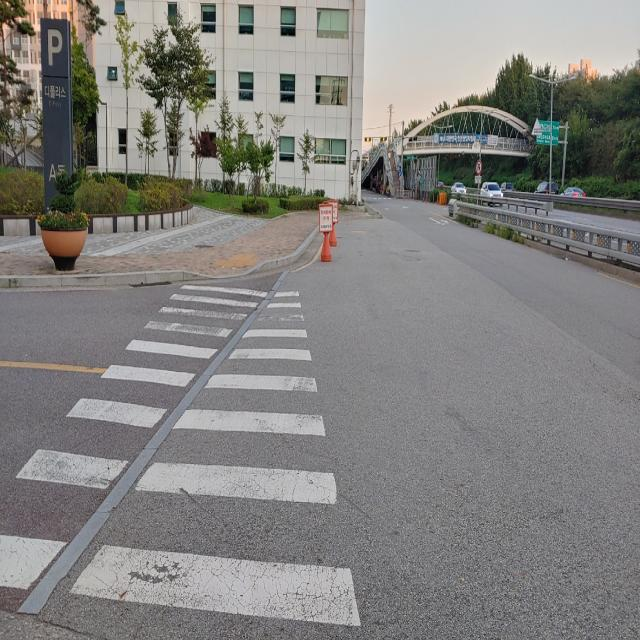횡단보도: (0, 284, 362, 628)
